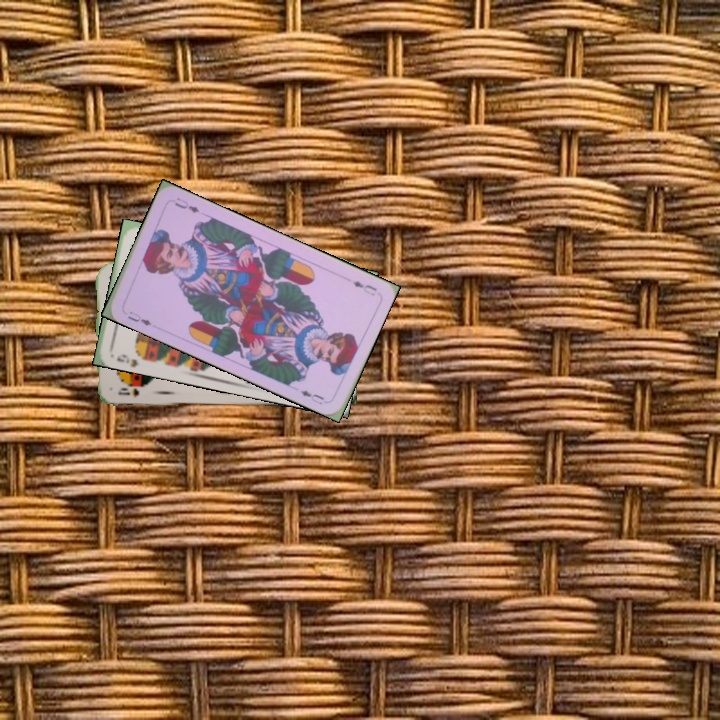EU: (349, 276, 379, 299), (123, 307, 154, 328)
S9: (113, 348, 150, 368)
SO: (114, 384, 141, 400)
